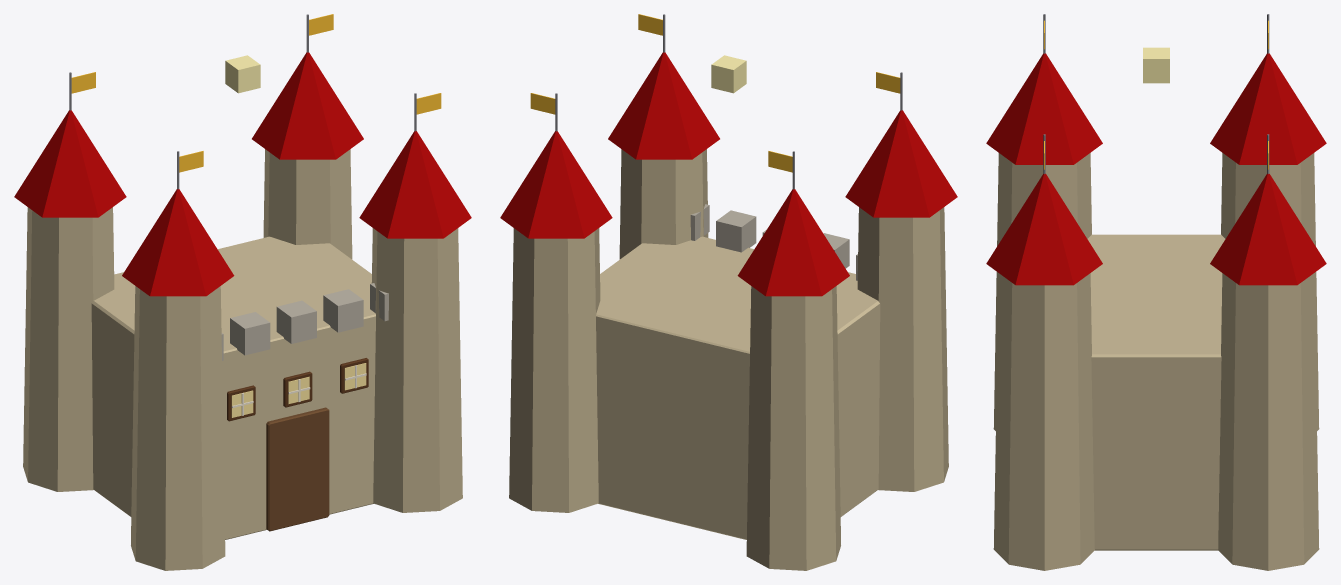
The model's file is home_castle.glb.
3 views of the same model, side by side, from view 1: azimuth 30°, elevation 25°; view 2: azimuth 150°, elevation 25°; view 3: azimuth 270°, elevation 25° (orthographic). The views are drawn at different scales.
Visible parts, largest first — view 1: home_castle_stone, home_castle_plain, home_castle_wood, home_castle_fabric, home_castle_glass, home_castle_glow; view 2: home_castle_stone, home_castle_plain, home_castle_fabric, home_castle_glow; view 3: home_castle_stone, home_castle_plain, home_castle_glow.
Part boxes in pixels (box(x1,y1,x2,y2)): home_castle_stone: box(23, 149, 462, 570); home_castle_plain: box(14, 52, 471, 296); home_castle_wood: box(227, 358, 368, 531); home_castle_fabric: box(71, 14, 441, 172); home_castle_glass: box(231, 363, 366, 417); home_castle_glow: box(225, 55, 260, 93); home_castle_stone: box(509, 149, 948, 570); home_castle_plain: box(500, 52, 957, 296); home_castle_fabric: box(530, 14, 900, 172); home_castle_glow: box(711, 55, 746, 93); home_castle_stone: box(993, 153, 1319, 570); home_castle_plain: box(986, 53, 1326, 285); home_castle_glow: box(1143, 47, 1169, 83).
Bounding box in the file's own units: 7.6 × 9.49 × 6.7.
